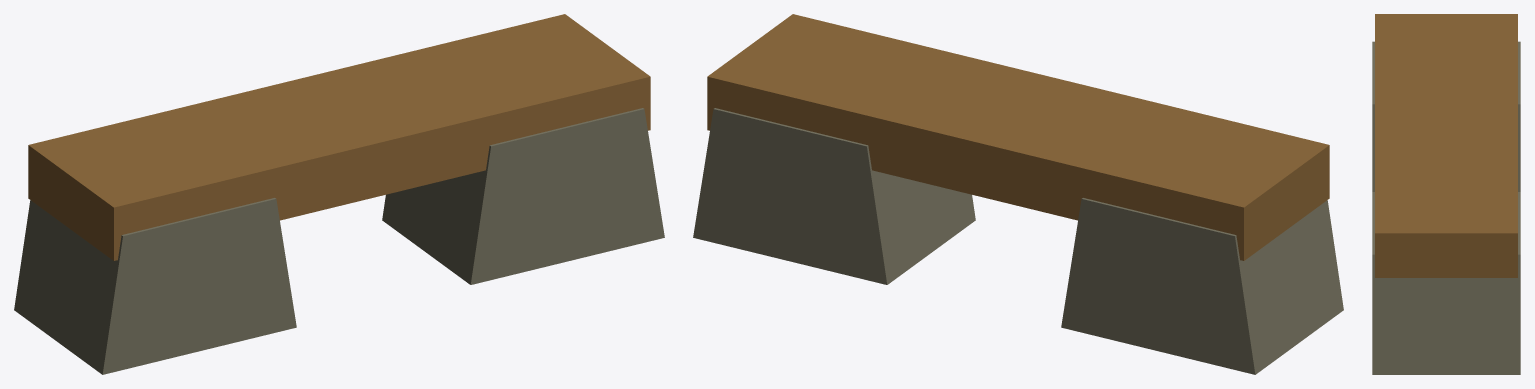
File: VAULT_TIMBER_BRIDGE_END.shadow.glb
The picture shows the model from 3 angles, left to right: view 1: azimuth 30°, elevation 25°; view 2: azimuth 150°, elevation 25°; view 3: azimuth 270°, elevation 25°; orthographic projection. The views are drawn at different scales.
Parts seen in each view (by area): view 1: Body_Mesh; view 2: Body_Mesh; view 3: Body_Mesh.
Boxes of the visible parts, x1=… form: Body_Mesh: x1=14, y1=14, x2=664, y2=374; Body_Mesh: x1=693, y1=14, x2=1343, y2=374; Body_Mesh: x1=1372, y1=14, x2=1520, y2=374.
Size of the model in its own units: 1.1 by 0.305 by 0.3.
